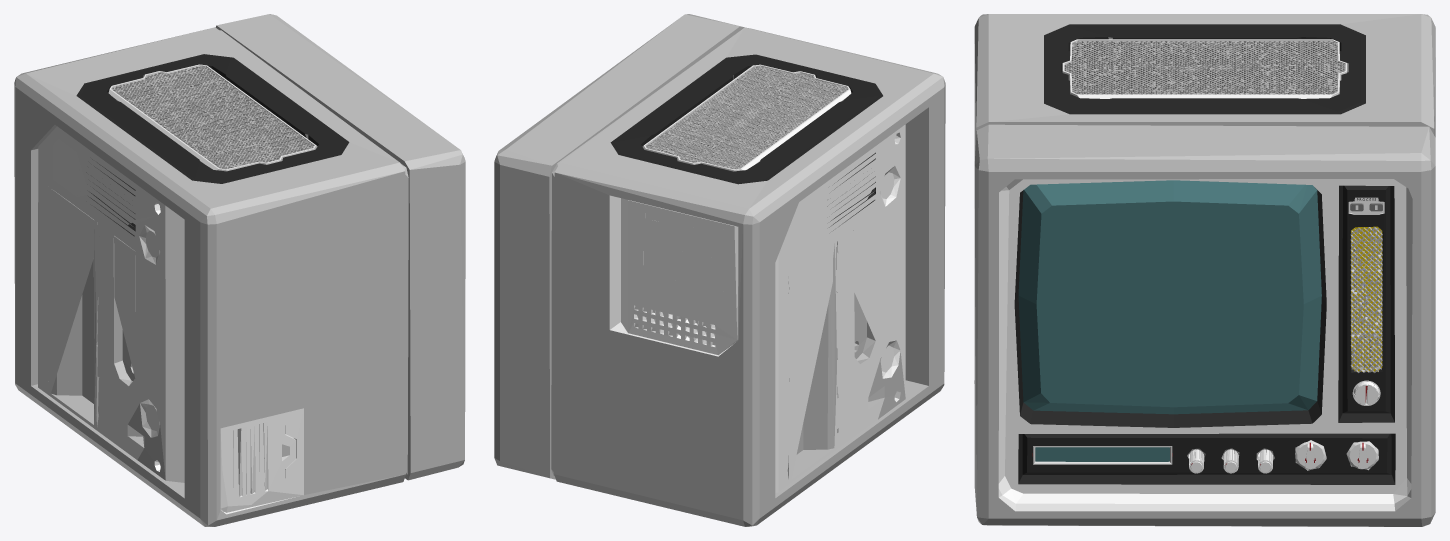
Rendered from crt2.fbx.
The picture shows the model from 3 angles, left to right: view 1: azimuth 30°, elevation 25°; view 2: azimuth 150°, elevation 25°; view 3: azimuth 270°, elevation 25°; orthographic projection. The views are drawn at different scales.
Visible parts, largest first — view 1: Body.001, Grating_Plate_Plane.001, Grating_Plate_Cube.005; view 2: Body.001, Grating_Plate_Plane.001, Grating_Plate_Cube.005; view 3: Body.001, Grating_Plate_Plane.001, Grate_Cut1_1_Plane.004, Grating_Plate_Cube.005, F_Sm_Display_Ob_Longdisplaya.001, F_Highknob_Ob_Turnknoba.001, F_Knobset_Ob_Longknobseries1Aa.008, F_Bigtwistknob_Ob_Bigknobb.002.
Boxes of the visible parts, x1=… form: Body.001: x1=14, y1=14, x2=465, y2=526; Grating_Plate_Plane.001: x1=111, y1=66, x2=313, y2=169; Grating_Plate_Cube.005: x1=108, y1=64, x2=317, y2=171; Body.001: x1=494, y1=14, x2=945, y2=526; Grating_Plate_Plane.001: x1=646, y1=66, x2=847, y2=169; Grating_Plate_Cube.005: x1=642, y1=64, x2=851, y2=171; Body.001: x1=974, y1=14, x2=1435, y2=526; Grating_Plate_Plane.001: x1=1064, y1=41, x2=1345, y2=94; Grate_Cut1_1_Plane.004: x1=1350, y1=226, x2=1382, y2=372; Grating_Plate_Cube.005: x1=1062, y1=39, x2=1347, y2=98; F_Sm_Display_Ob_Longdisplaya.001: x1=1035, y1=447, x2=1169, y2=461; F_Highknob_Ob_Turnknoba.001: x1=1295, y1=440, x2=1378, y2=469; F_Knobset_Ob_Longknobseries1Aa.008: x1=1189, y1=449, x2=1272, y2=473; F_Bigtwistknob_Ob_Bigknobb.002: x1=1352, y1=380, x2=1380, y2=405.
Size of the model in its own units: 196 by 227 by 253.
